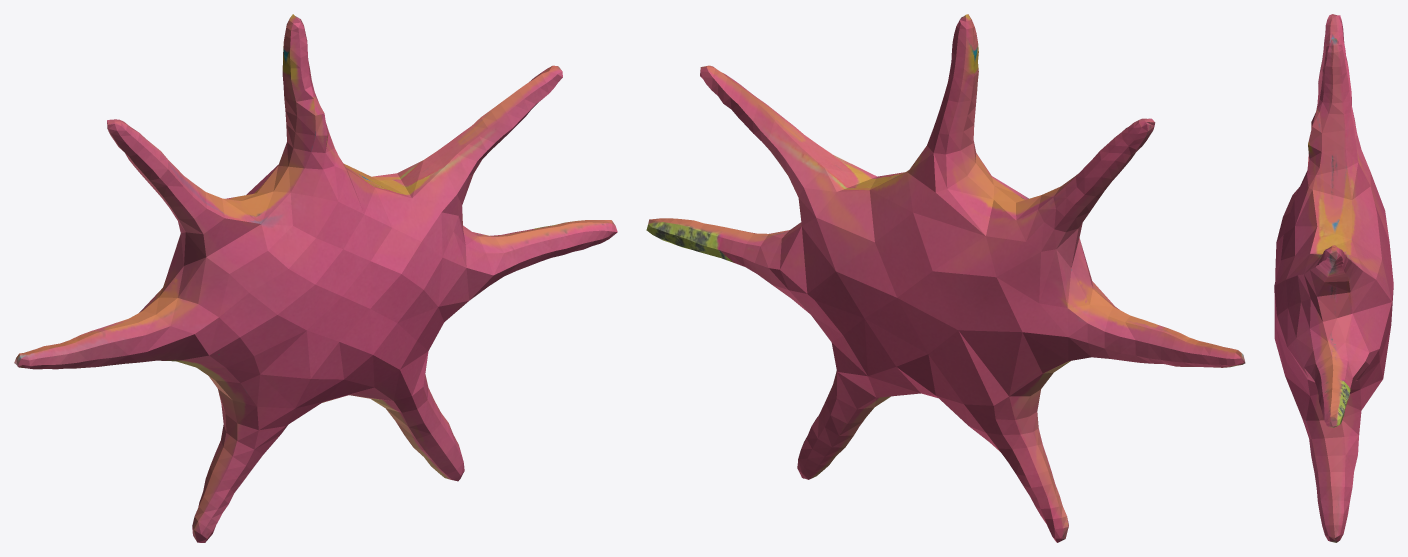
File: Star_000.fbx
3 renders of one model, left to right at view 1: azimuth 30°, elevation 25°; view 2: azimuth 150°, elevation 25°; view 3: azimuth 270°, elevation 25°, orthographic. The views are drawn at different scales.
Visible parts, largest first — view 1: Star.000; view 2: Star.000; view 3: Star.000.
Part boxes in pixels (bbox=[...]): Star.000: bbox=[14, 14, 617, 542]; Star.000: bbox=[646, 14, 1245, 542]; Star.000: bbox=[1274, 14, 1393, 542].
Size of the model in its own units: 62.54 by 50.52 by 12.51.
